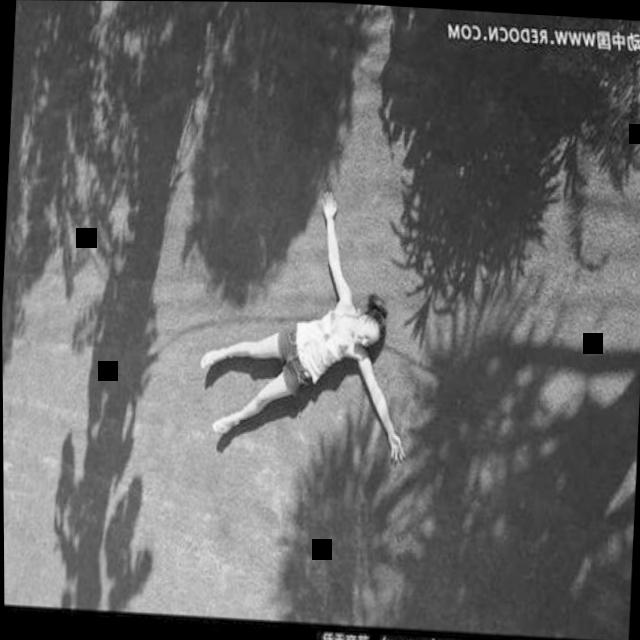Fall-Detected: (188, 167, 425, 471)
